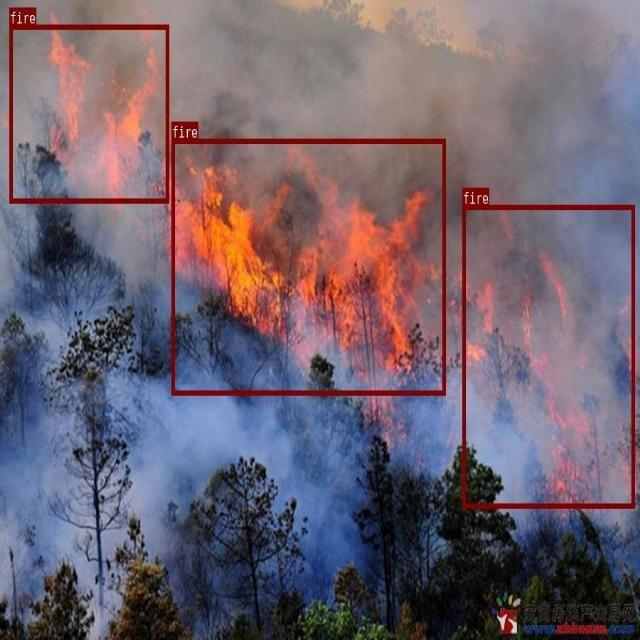fire: (171, 138, 445, 394), (462, 205, 634, 508), (9, 24, 168, 202)
